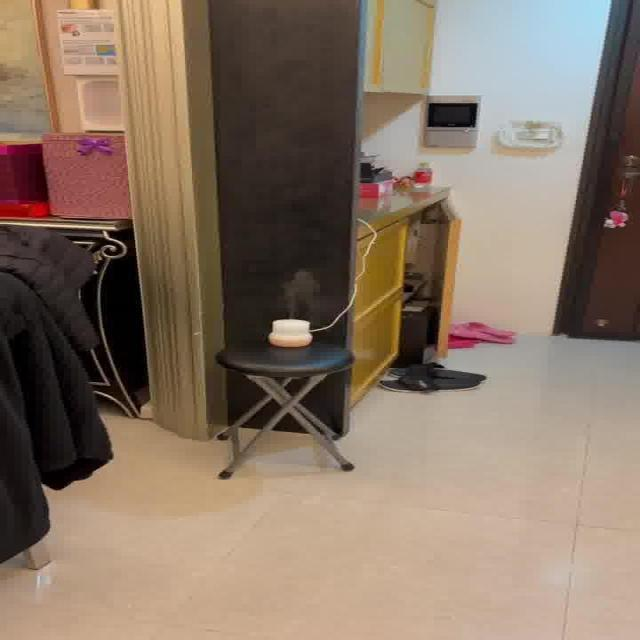fire: (276, 269, 327, 315)
